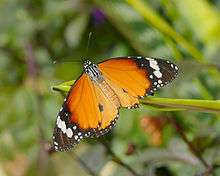Argyreus hyperbius: (49, 29, 178, 149)
butterfly: (51, 31, 180, 151)
